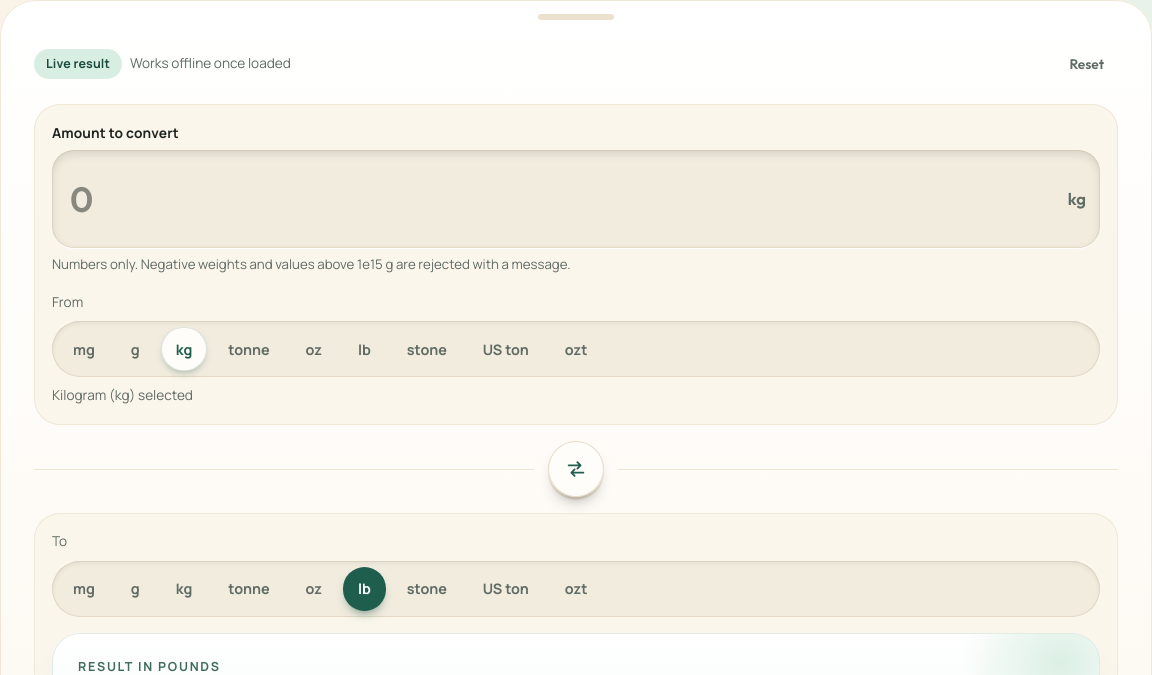
Test case: WeightConverter › swaps the two units and recalculates, keeping focus on the control
Step 1. Type "1" into the field labelled "Amount to convert" → {"x": 563, "y": 199}, box [66,158,1060,240]
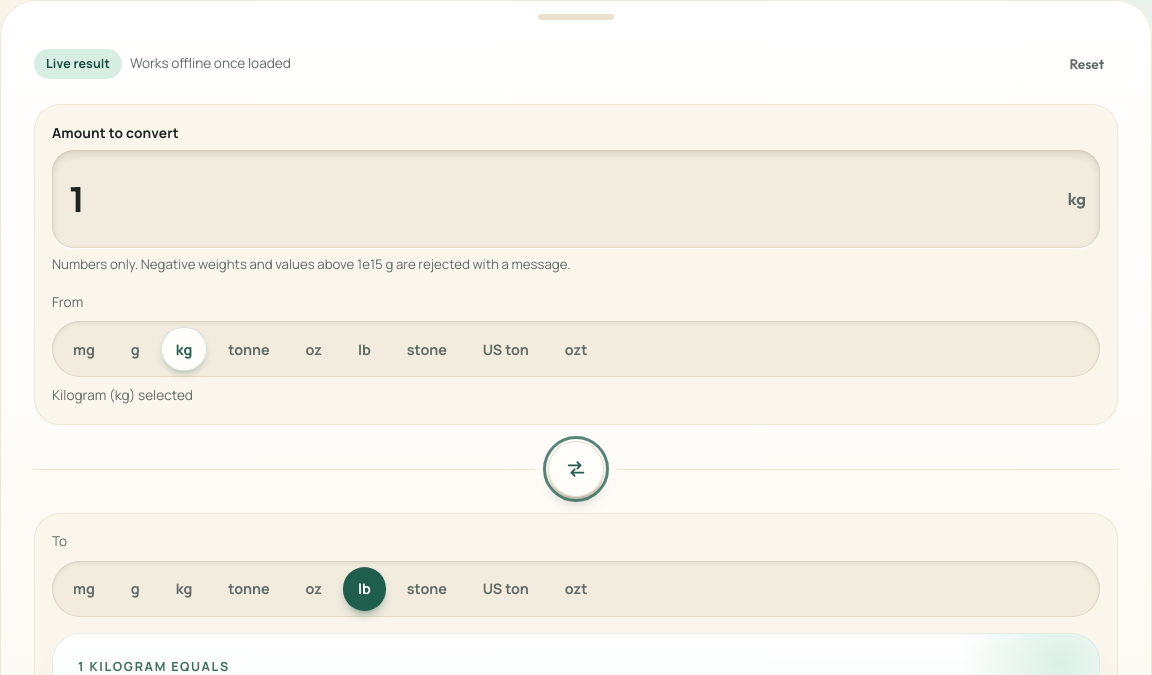
Step 2. Click the button named "Swap the two units" → {"x": 576, "y": 469}, box [548,441,604,497]
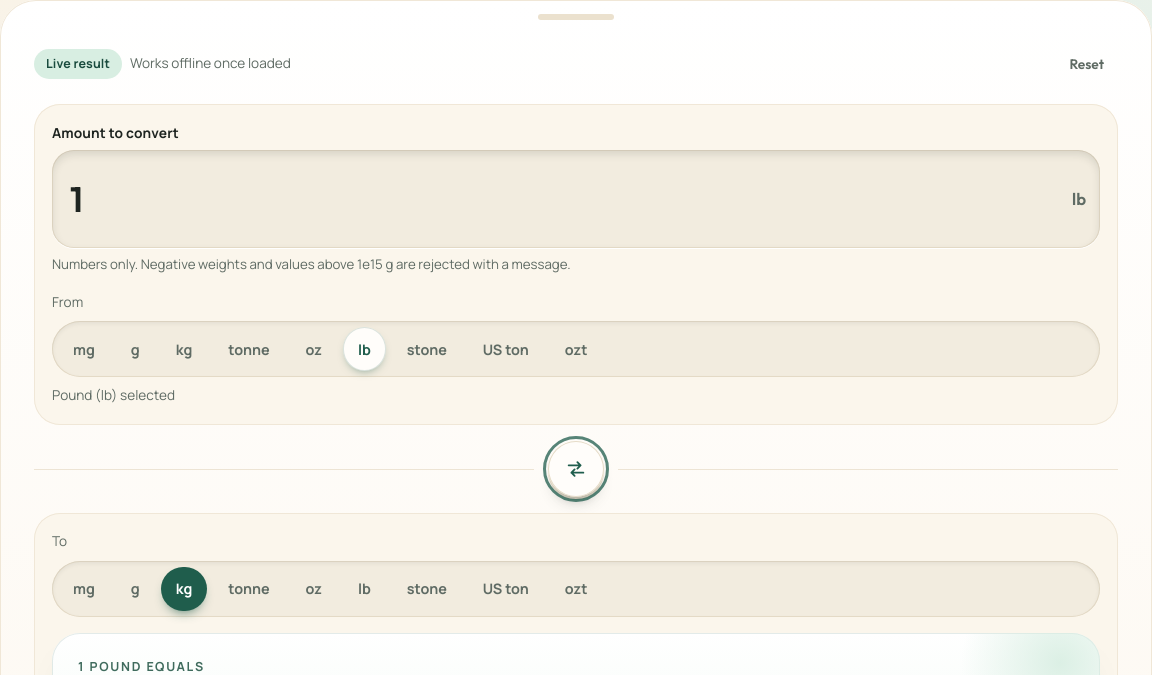
Now the radio button named "Pound (lb)" is checked, box [343,327,386,371]
Now the radio button named "Kilogram (kg)" is checked, box [161,567,207,611]
